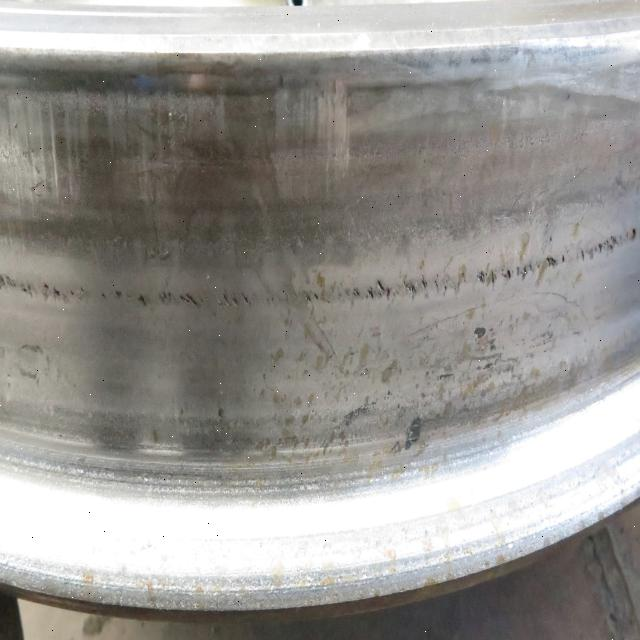boli: (0, 270, 282, 308), (350, 253, 510, 307), (548, 212, 636, 286)
